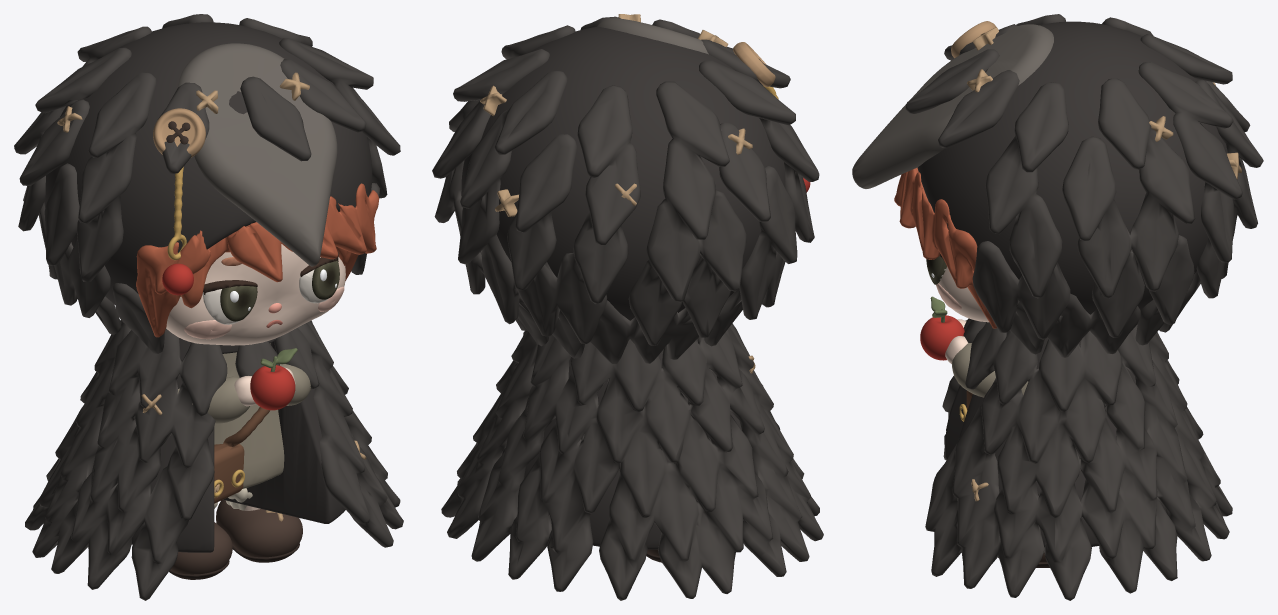
The model's file is feather_hush_roblox.glb.
3 renders of one model, left to right at view 1: azimuth 30°, elevation 25°; view 2: azimuth 150°, elevation 25°; view 3: azimuth 270°, elevation 25°, orthographic.
Visible parts, largest first — view 1: FeatherHush_CloakFeathers, FeatherHush_HoodFeathers, FeatherHush_Hood, FeatherHush_Beak, FeatherHush_Hair, FeatherHush_Cloak, FeatherHush_Head, FeatherHush_Tunic, FeatherHush_Shoes, FeatherHush_Satchel, FeatherHush_Iris, FeatherHush_Apple (+8 smaller); view 2: FeatherHush_HoodFeathers, FeatherHush_CloakFeathers, FeatherHush_Hood, FeatherHush_Cloak, FeatherHush_Stitches, FeatherHush_Beak, FeatherHush_Button; view 3: FeatherHush_HoodFeathers, FeatherHush_CloakFeathers, FeatherHush_Hood, FeatherHush_Beak, FeatherHush_Hair, FeatherHush_Cloak, FeatherHush_Stitches, FeatherHush_Apple, FeatherHush_Head, FeatherHush_Tunic, FeatherHush_Button.
Part boxes in pixels (x1,y1,x2,y2): FeatherHush_CloakFeathers: (25,320,403,600); FeatherHush_HoodFeathers: (14,14,400,353); FeatherHush_Hood: (44,22,372,304); FeatherHush_Beak: (178,43,337,266); FeatherHush_Hair: (136,183,379,337); FeatherHush_Cloak: (92,338,345,552); FeatherHush_Head: (166,244,345,345); FeatherHush_Tunic: (177,343,311,488); FeatherHush_Shoes: (170,500,302,574); FeatherHush_Satchel: (214,407,269,503); FeatherHush_Iris: (220,260,339,321); FeatherHush_Apple: (250,365,295,410); FeatherHush_HoodFeathers: (432,16,819,363); FeatherHush_CloakFeathers: (441,323,823,600); FeatherHush_Hood: (461,26,785,320); FeatherHush_Cloak: (502,339,741,549); FeatherHush_Stitches: (480,14,755,373); FeatherHush_Beak: (597,18,708,54); FeatherHush_Button: (733,42,775,86); FeatherHush_HoodFeathers: (905,14,1263,357); FeatherHush_CloakFeathers: (925,318,1232,600); FeatherHush_Hood: (917,21,1227,314); FeatherHush_Beak: (852,24,1053,188); FeatherHush_Hair: (894,167,996,328); FeatherHush_Cloak: (945,322,1165,546); FeatherHush_Stitches: (967,27,1241,501); FeatherHush_Apple: (920,315,964,360); FeatherHush_Head: (939,266,988,322); FeatherHush_Tunic: (951,320,1028,397); FeatherHush_Button: (951,21,996,58).
Size of the model in its own units: 2.21 by 3.2 by 2.34.
24 materials, 24 textured.
